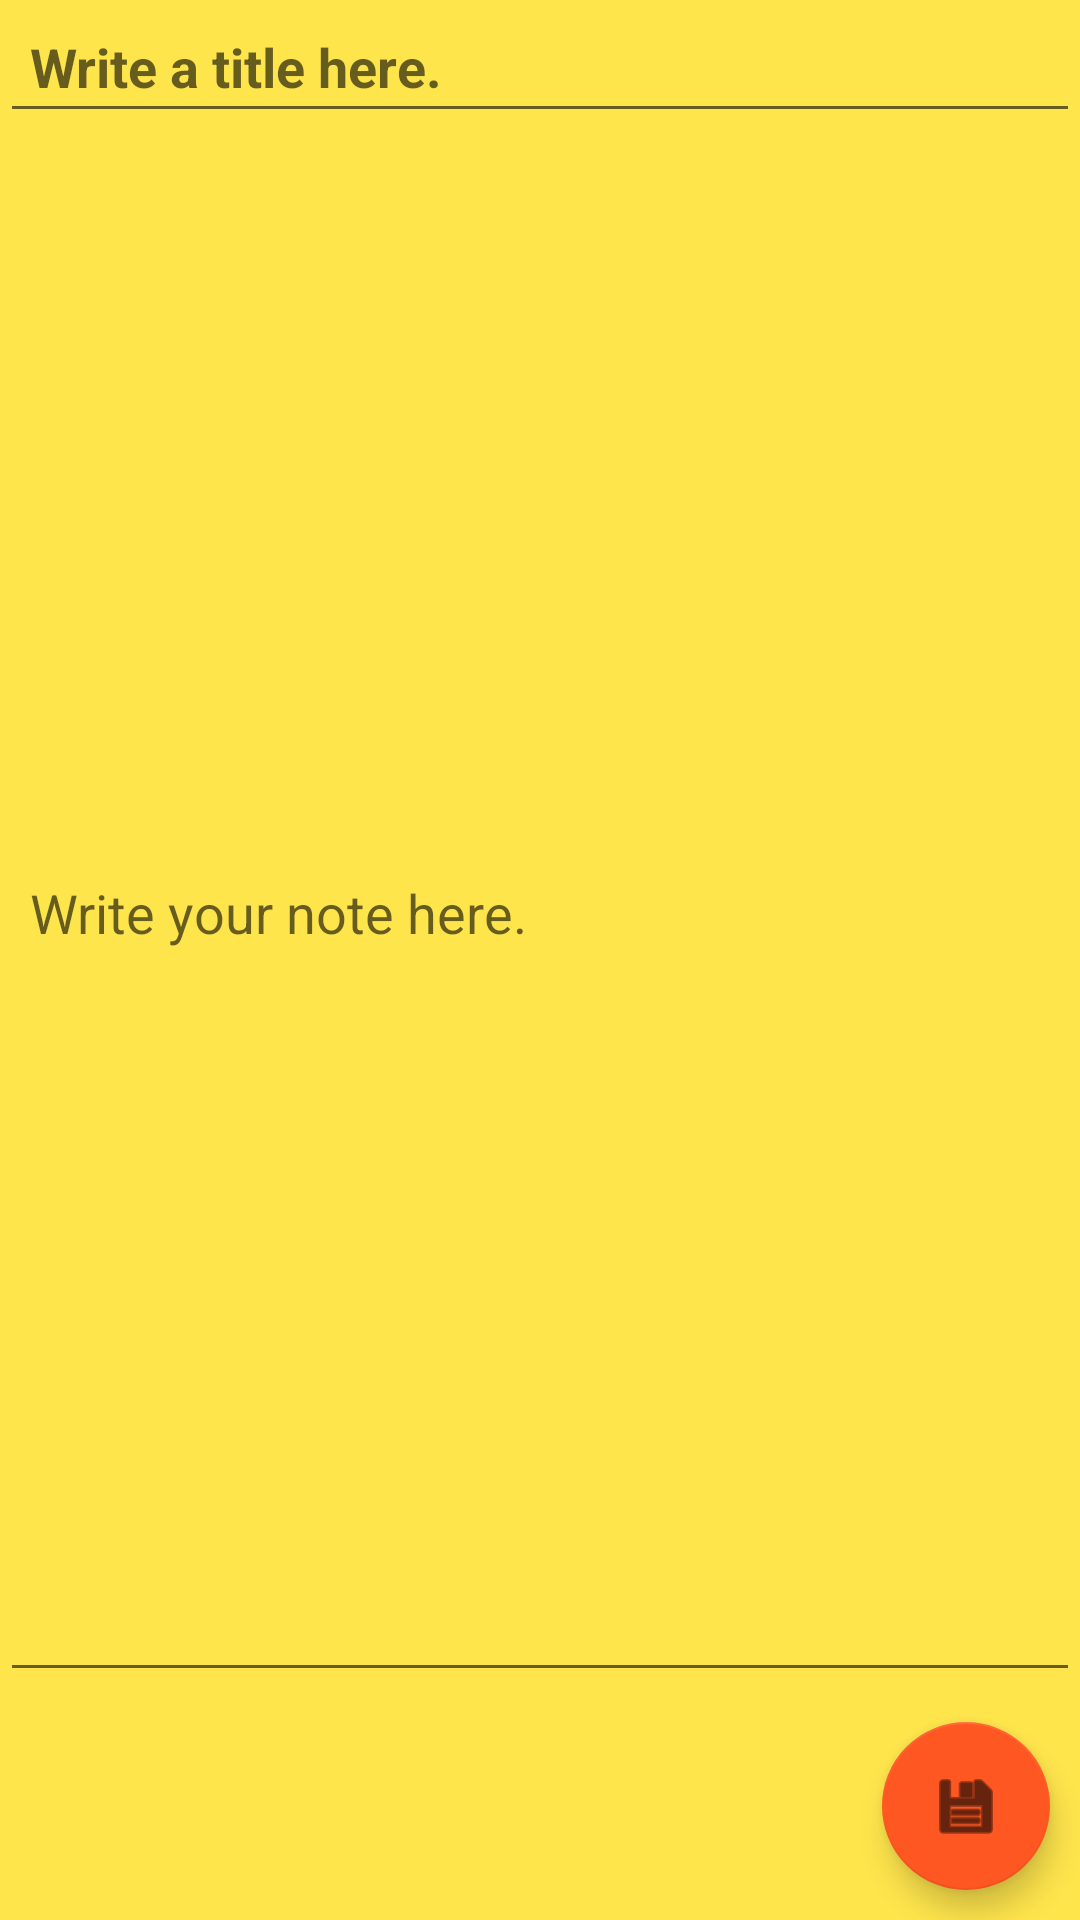

Point at icon controls on the screen. Image size 1080px×1920px, points as (x,y).
Save Note: (966,1806)
